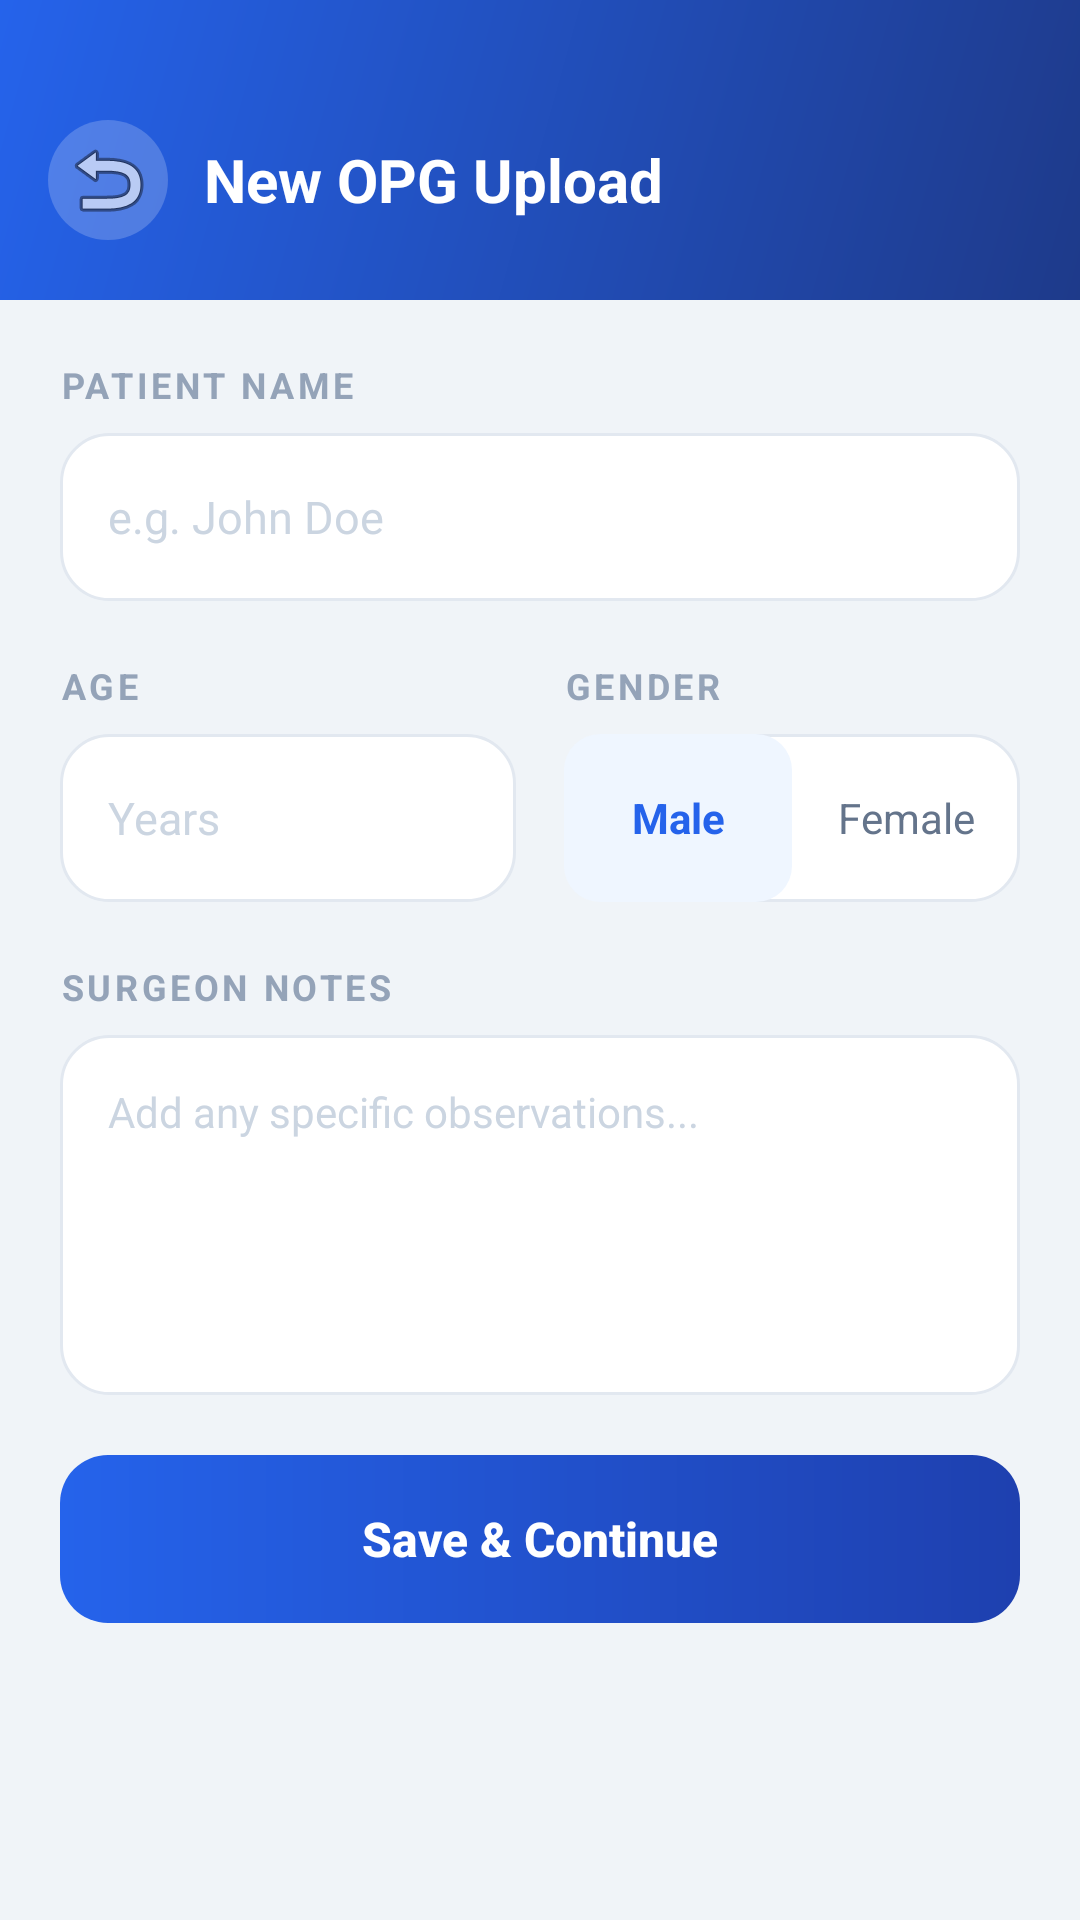

Named icons in this screenshot (1080*1920) and their centers, point (x, y):
revert: point (108, 180)
